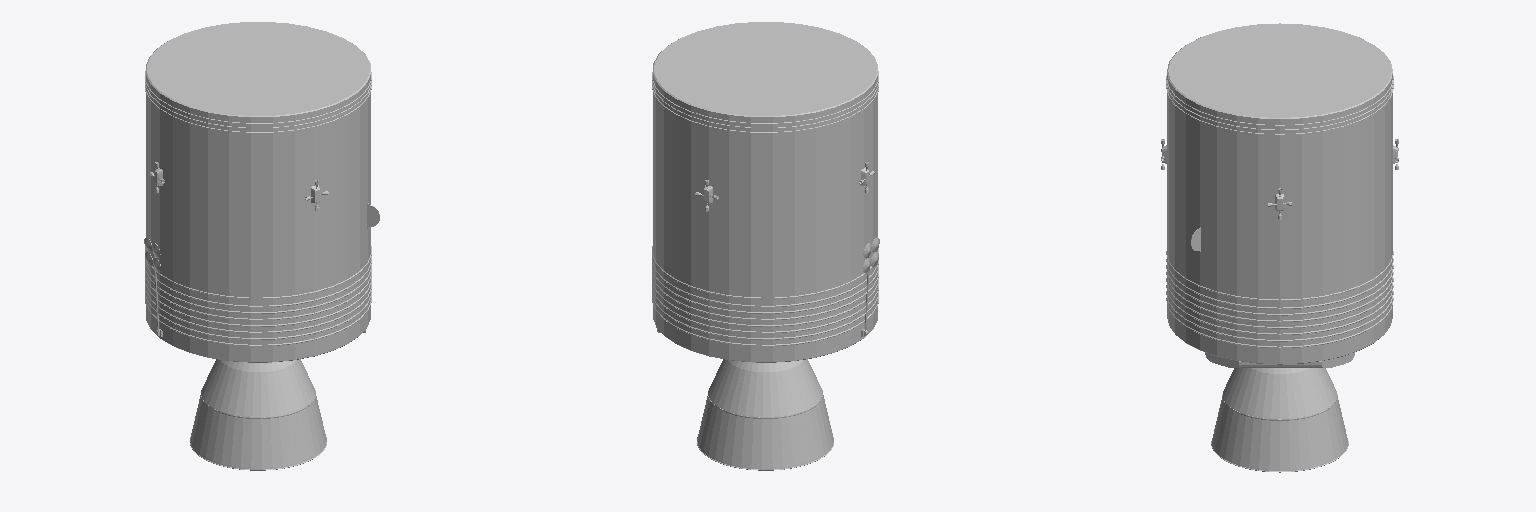
File: Saturn V_2.obj
The picture shows the model from 3 angles: view 1: azimuth 30°, elevation 25°; view 2: azimuth 150°, elevation 25°; view 3: azimuth 270°, elevation 25°; orthographic projection.
Visible parts, largest first — view 1: Apollo_Service_Module_Cylinder.006, AJ10-137_Nozzle_Cylinder.025; view 2: Apollo_Service_Module_Cylinder.006, AJ10-137_Nozzle_Cylinder.025; view 3: Apollo_Service_Module_Cylinder.006, AJ10-137_Nozzle_Cylinder.025, AJ10-137_Engine_Cube.010, RCS_Cluster_-_Apollo_Service_Module__Cube.002.
Part boxes in pixels (bbox=[...]): Apollo_Service_Module_Cylinder.006: bbox=[145, 22, 371, 362]; AJ10-137_Nozzle_Cylinder.025: bbox=[190, 359, 326, 470]; Apollo_Service_Module_Cylinder.006: bbox=[652, 22, 878, 362]; AJ10-137_Nozzle_Cylinder.025: bbox=[697, 359, 833, 470]; Apollo_Service_Module_Cylinder.006: bbox=[1166, 23, 1393, 364]; AJ10-137_Nozzle_Cylinder.025: bbox=[1211, 368, 1348, 472]; AJ10-137_Engine_Cube.010: bbox=[1205, 352, 1354, 367]; RCS_Cluster_-_Apollo_Service_Module__Cube.002: bbox=[1161, 139, 1398, 219].
Size of the model in its own units: 4.22 by 7.11 by 4.12.